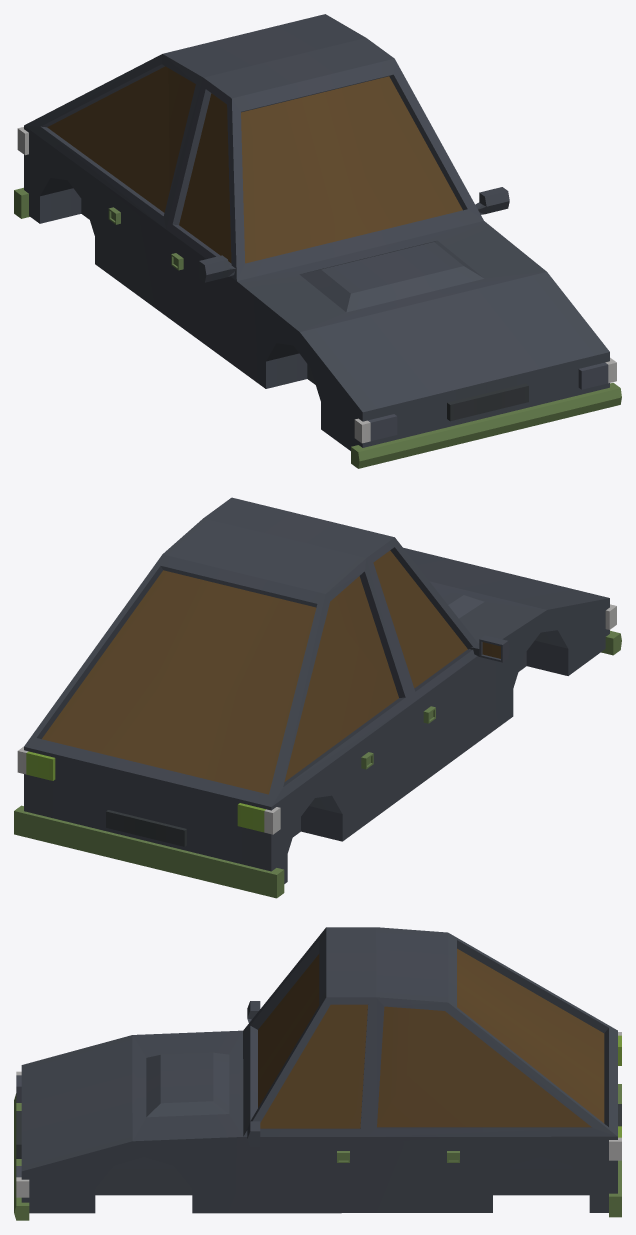
File: Car_05.fbx
3 views of the same model, one above another, from view 1: azimuth 30°, elevation 25°; view 2: azimuth 150°, elevation 25°; view 3: azimuth 270°, elevation 25° (orthographic). The views are drawn at different scales.
Parts seen in each view (by area): view 1: Car_05; view 2: Car_05; view 3: Car_05.
Boxes of the visible parts, <box> form: Car_05: <box>14,14,621,468</box>; Car_05: <box>14,497,621,898</box>; Car_05: <box>14,927,621,1220</box>.
Size of the model in its own units: 1.97 by 1.42 by 3.88.
